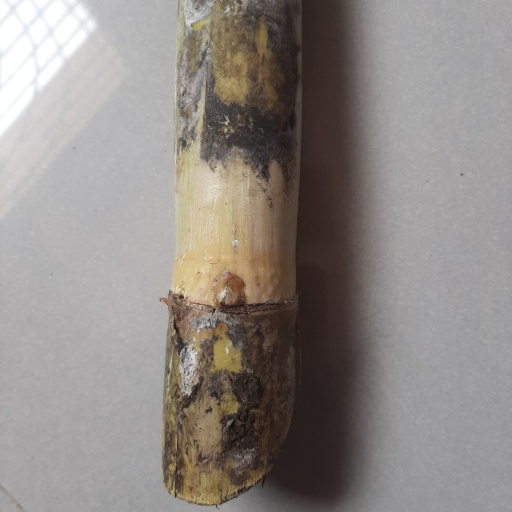Bud: (215, 272, 246, 311)
